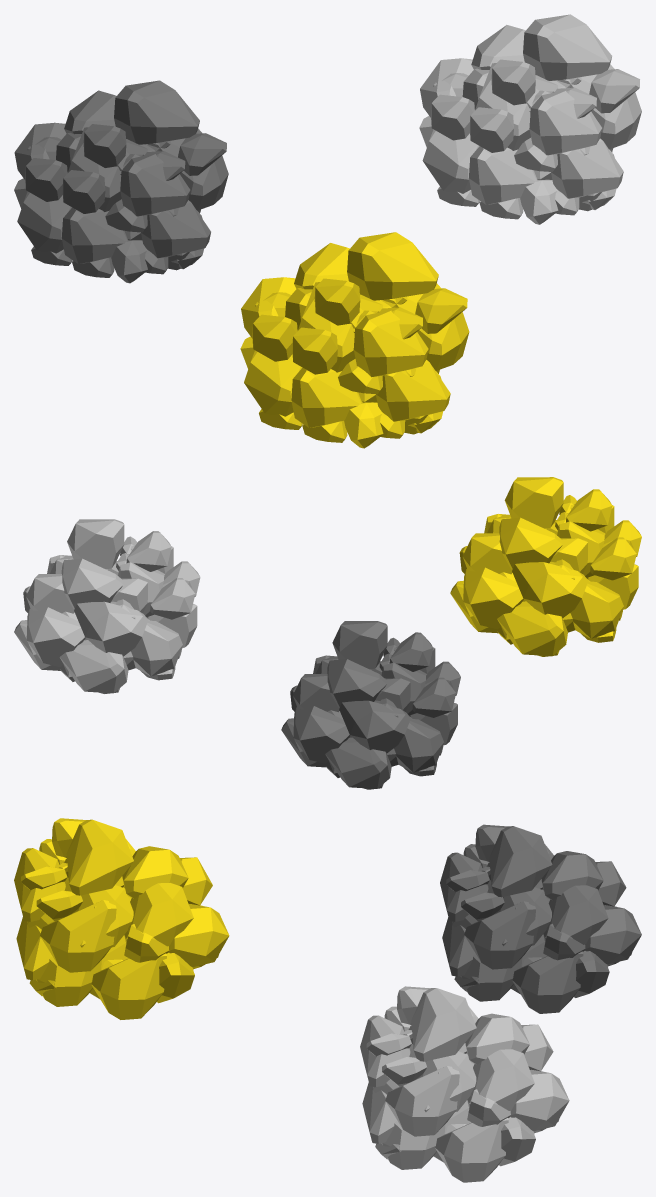
The model's file is Minerios.fbx.
3 views of the same model, one above another, from view 1: azimuth 30°, elevation 25°; view 2: azimuth 150°, elevation 25°; view 3: azimuth 270°, elevation 25° (orthographic). The views are drawn at different scales.
Visible parts, largest first — view 1: Ouro.001, Ferro.001, Cylinder.002; view 2: Ouro.001, Ferro.001, Cylinder.002; view 3: Ouro.001, Ferro.001, Cylinder.002.
Part boxes in pixels (bbox=[...]): Ouro.001: bbox=[240, 232, 469, 448]; Ferro.001: bbox=[419, 14, 641, 224]; Cylinder.002: bbox=[14, 80, 228, 283]; Ouro.001: bbox=[450, 477, 641, 656]; Ferro.001: bbox=[14, 519, 200, 693]; Cylinder.002: bbox=[281, 621, 460, 789]; Ouro.001: bbox=[14, 818, 229, 1019]; Ferro.001: bbox=[360, 986, 569, 1182]; Cylinder.002: bbox=[440, 824, 641, 1013].
Size of the model in its own units: 1183 by 359 by 1247.
